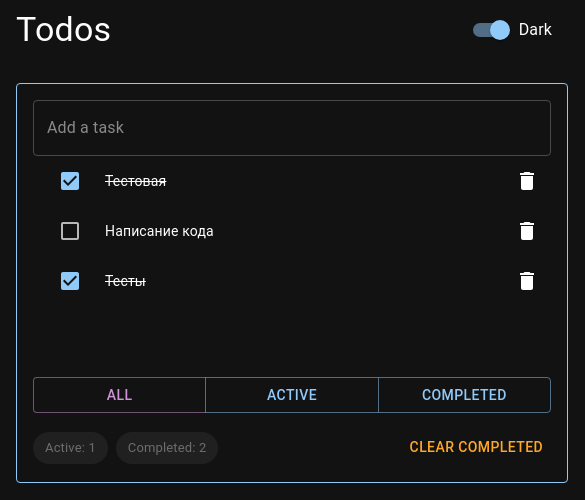
App component › deletes a todo item
The image size is (585, 500).
Click the button named "delete" in the row of "Тестовая" at (527, 181), box [507,161,547,201]
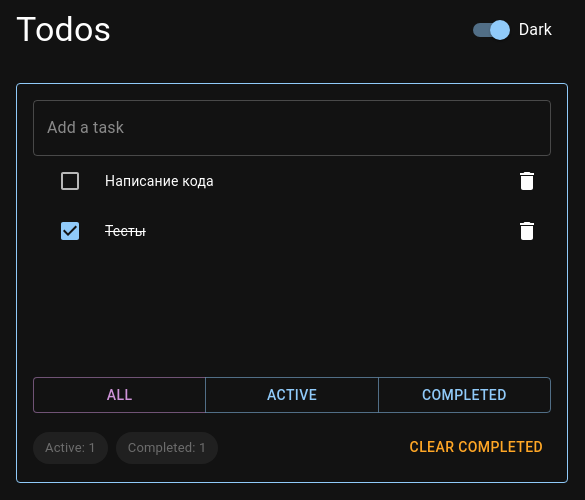
Expected: the text "Тестовая" is gone
